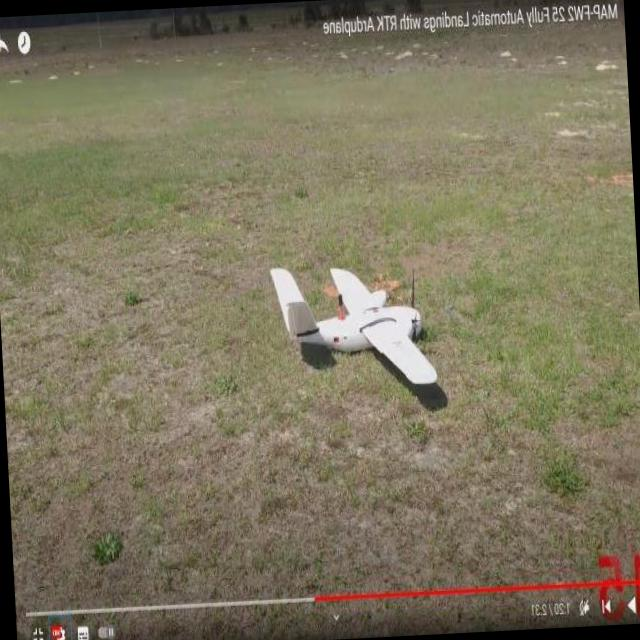UAV: (253, 254, 451, 405)
